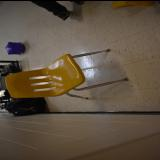cone: (111, 0, 151, 8)
cube: (5, 41, 25, 54)
